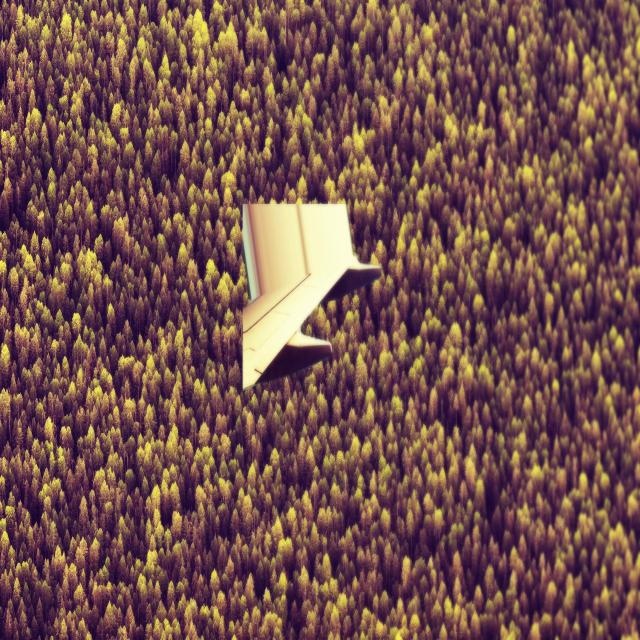airplane: (240, 200, 381, 390)
